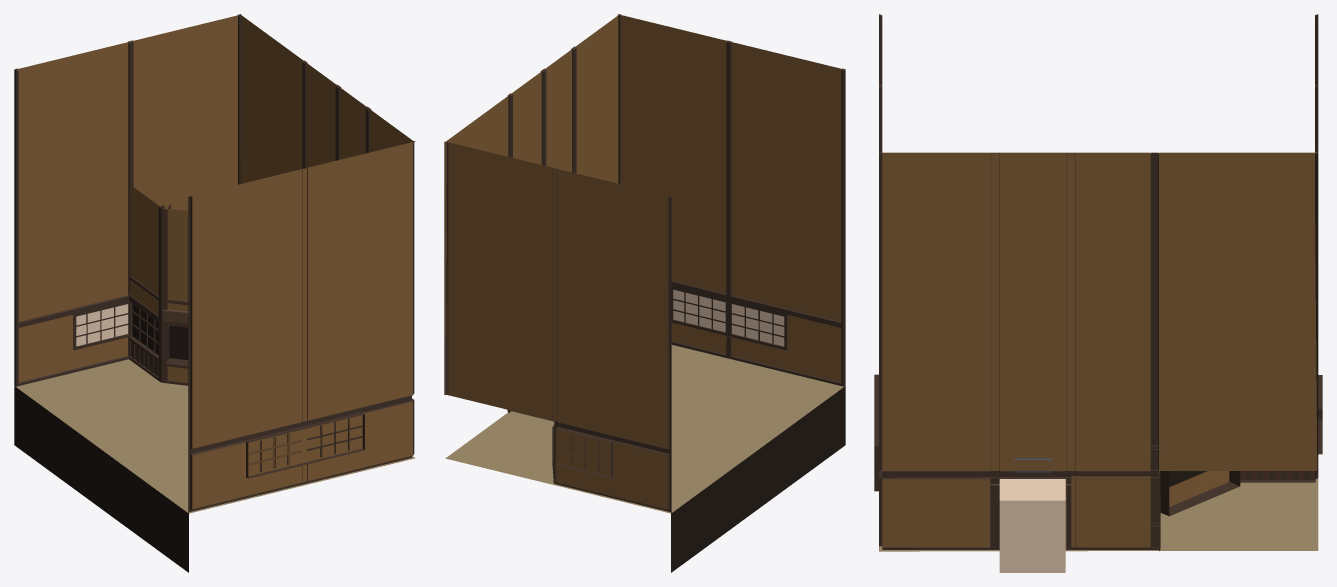
Rendered from 3D_interior_station_building.fbx.
3 views of the same model, side by side, from view 1: azimuth 30°, elevation 25°; view 2: azimuth 150°, elevation 25°; view 3: azimuth 270°, elevation 25° (orthographic). The views are drawn at different scales.
Visible parts, largest first — view 1: Interior Train Station; view 2: Interior Train Station; view 3: Interior Train Station.
Part boxes in pixels (bbox=[...]): Interior Train Station: bbox=[14, 14, 415, 572]; Interior Train Station: bbox=[444, 14, 845, 572]; Interior Train Station: bbox=[874, 14, 1322, 572].
Bounding box in the file's own units: 13.85 × 19 × 16.33.
